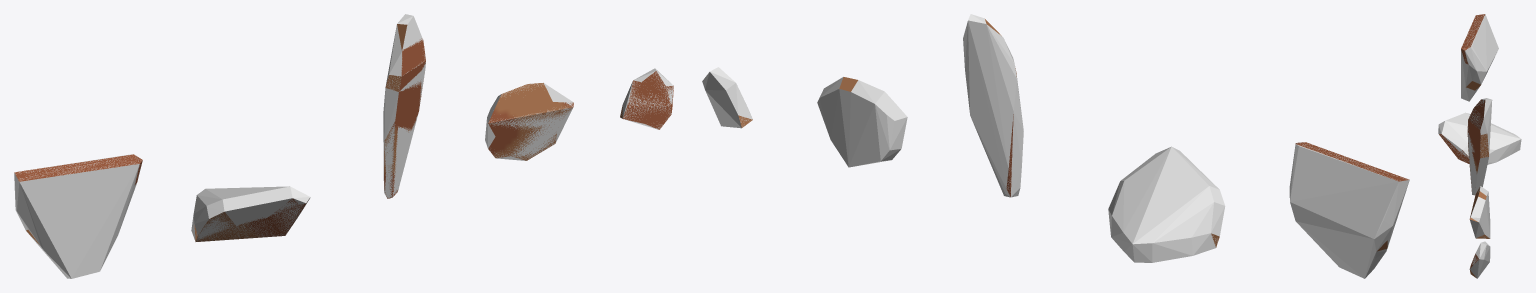
The model's file is SM_DB01_ClayShards.fbx.
3 views of the same model, side by side, from view 1: azimuth 30°, elevation 25°; view 2: azimuth 150°, elevation 25°; view 3: azimuth 270°, elevation 25° (orthographic). The views are drawn at different scales.
Parts seen in each view (by area): view 1: DB01_Clay_Rim_COL, DB01_Clay_Base_COL, DB01_Clay_WallMid, DB01_Clay_WallLong_COL, DB01_Clay_WallLong, DB01_Clay_WallMid_COL, DB01_Clay_Base, DB01_Clay_WallSmall, DB01_Clay_Rim, DB01_Clay_WallSmall_COL; view 2: DB01_Clay_Rim_COL, DB01_Clay_Base_COL, DB01_Clay_WallLong_COL, DB01_Clay_WallMid_COL, DB01_Clay_WallSmall_COL, DB01_Clay_Rim; view 3: DB01_Clay_Base_COL, DB01_Clay_Rim_COL, DB01_Clay_WallLong_COL, DB01_Clay_WallLong, DB01_Clay_WallMid_COL, DB01_Clay_Rim, DB01_Clay_WallSmall_COL, DB01_Clay_Base, DB01_Clay_WallMid, DB01_Clay_WallSmall.
Part boxes in pixels (left/top/right/bottom): DB01_Clay_Rim_COL: left=14, top=154, right=142, bottom=278; DB01_Clay_Base_COL: left=191, top=186, right=310, bottom=241; DB01_Clay_WallMid: left=488, top=83, right=573, bottom=160; DB01_Clay_WallLong_COL: left=383, top=14, right=425, bottom=198; DB01_Clay_WallLong: left=384, top=24, right=425, bottom=198; DB01_Clay_WallMid_COL: left=485, top=83, right=573, bottom=160; DB01_Clay_Base: left=194, top=198, right=307, bottom=241; DB01_Clay_WallSmall: left=620, top=71, right=673, bottom=129; DB01_Clay_Rim: left=14, top=154, right=142, bottom=244; DB01_Clay_WallSmall_COL: left=621, top=68, right=673, bottom=129; DB01_Clay_Rim_COL: left=1289, top=143, right=1409, bottom=278; DB01_Clay_Base_COL: left=1108, top=146, right=1225, bottom=262; DB01_Clay_WallLong_COL: left=963, top=14, right=1023, bottom=197; DB01_Clay_WallMid_COL: left=817, top=77, right=907, bottom=167; DB01_Clay_WallSmall_COL: left=702, top=67, right=752, bottom=128; DB01_Clay_Rim: left=1295, top=142, right=1409, bottom=251; DB01_Clay_Base_COL: left=1438, top=112, right=1521, bottom=164; DB01_Clay_Rim_COL: left=1461, top=14, right=1498, bottom=101; DB01_Clay_WallLong_COL: left=1467, top=98, right=1492, bottom=195; DB01_Clay_WallLong: left=1467, top=99, right=1488, bottom=191; DB01_Clay_WallMid_COL: left=1470, top=186, right=1490, bottom=238; DB01_Clay_Rim: left=1461, top=14, right=1485, bottom=90; DB01_Clay_WallSmall_COL: left=1469, top=241, right=1490, bottom=278; DB01_Clay_Base: left=1439, top=134, right=1469, bottom=163; DB01_Clay_WallMid: left=1469, top=187, right=1489, bottom=238; DB01_Clay_WallSmall: left=1470, top=253, right=1479, bottom=278.
Bounding box in the file's own units: 0.5224 × 0.1274 × 0.0907.
